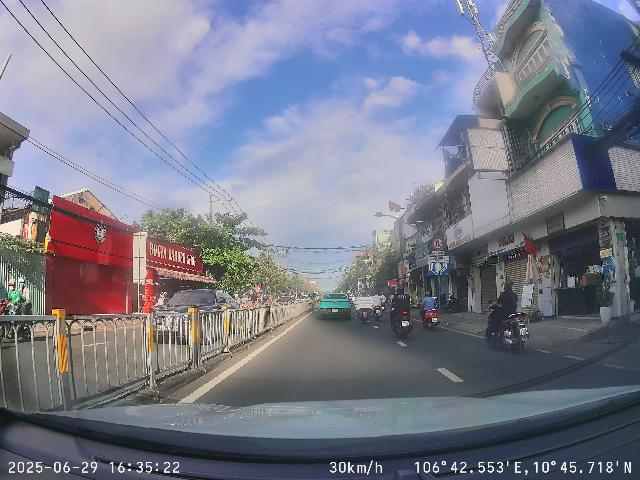124b-cam-oto-quay-dau-xe: (432, 237, 444, 250)
